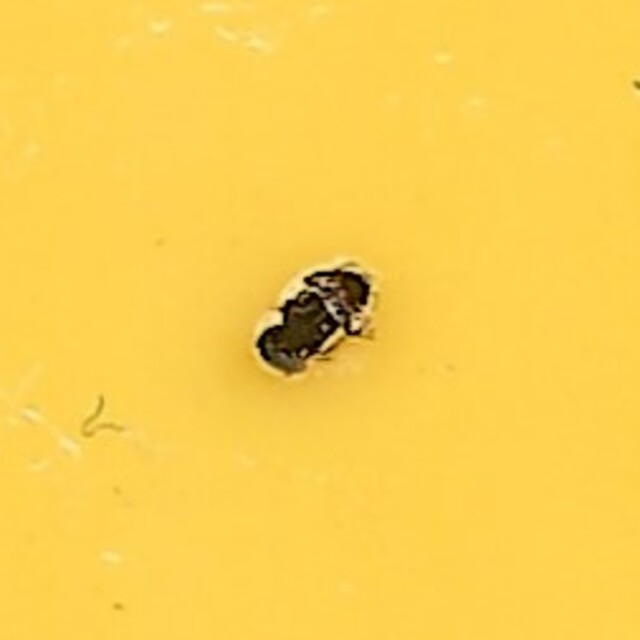Hymenoptera: (253, 254, 387, 386)
